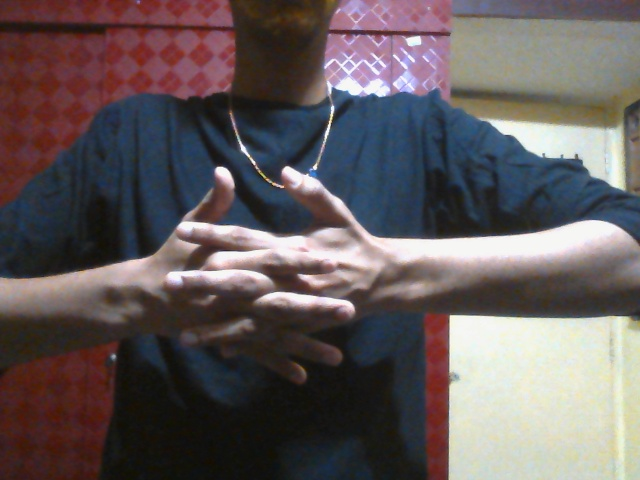W: (150, 163, 398, 384)
